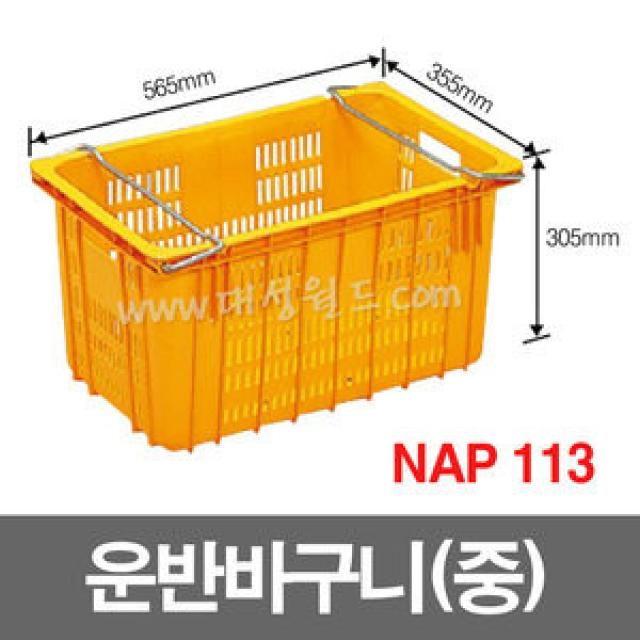basket: (9, 22, 575, 477)
